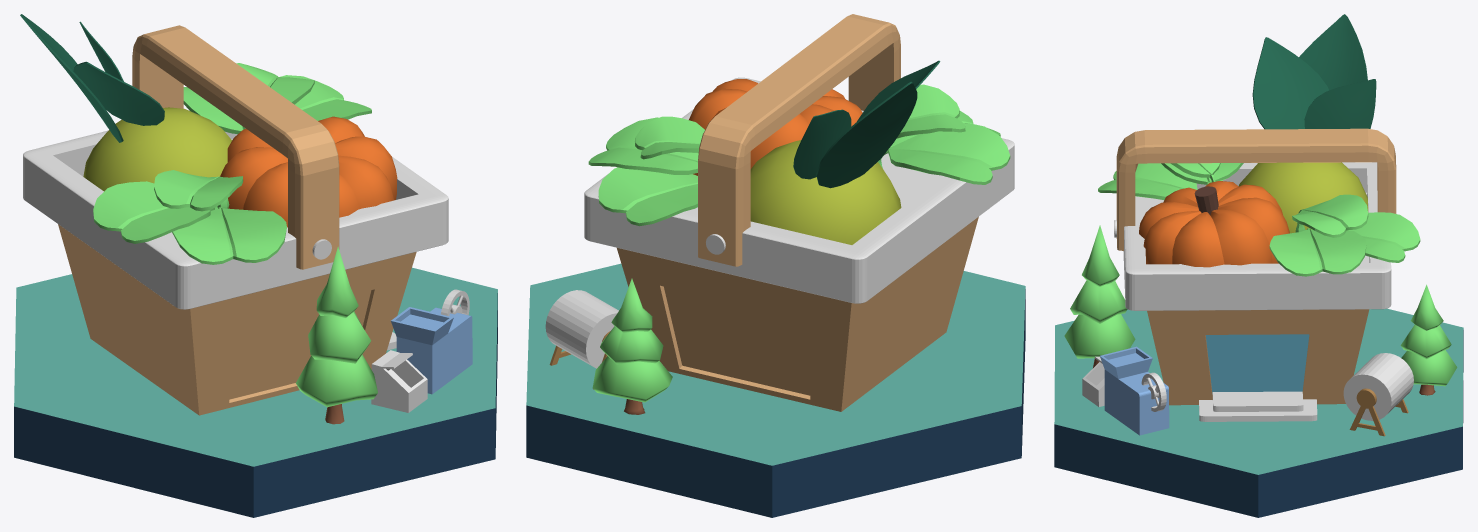
File: Macro - market lv3 wm3.fbx
3 renders of one model, left to right at view 1: azimuth 30°, elevation 25°; view 2: azimuth 150°, elevation 25°; view 3: azimuth 270°, elevation 25°, orthographic. The views are drawn at different scales.
Visible parts, largest first — view 1: Cylinder.154, Plane.006, Cube.103, Roundcube.004, Sphere.045, Sphere.044, Tree_Spruce_tiny_01.003, Plane.008, Cube.012, Plane.007, Plane.078, Plane.010 (+6 smaller); view 2: Cylinder.154, Plane.006, Cube.103, Roundcube.004, Sphere.044, Tree_Spruce_tiny_01.004, Plane.007, Plane.079, Plane.009, Cylinder.020, Sphere.045, Plane.012 (+4 smaller); view 3: Cylinder.154, Cube.103, Plane.006, Roundcube.004, Sphere.045, Plane.005, Tree_Spruce_tiny_01.003, Plane.078, Sphere.044, Cube.012, Plane.012, Tree_Spruce_tiny_01.004 (+12 smaller).
Part boxes in pixels (x1,y1,x2,y2): Cylinder.154: [14, 267, 497, 517]; Plane.006: [58, 224, 416, 415]; Cube.103: [23, 110, 448, 309]; Roundcube.004: [132, 25, 339, 269]; Sphere.045: [220, 116, 397, 227]; Sphere.044: [83, 107, 231, 191]; Tree_Spruce_tiny_01.003: [296, 246, 377, 424]; Plane.008: [172, 207, 286, 264]; Cube.012: [391, 307, 472, 394]; Plane.007: [93, 181, 217, 243]; Plane.078: [73, 61, 164, 125]; Plane.010: [154, 170, 243, 211]; Cylinder.154: [526, 263, 1025, 517]; Plane.006: [617, 217, 978, 411]; Cube.103: [584, 77, 1014, 303]; Roundcube.004: [698, 14, 900, 266]; Sphere.044: [750, 140, 901, 244]; Tree_Spruce_tiny_01.004: [592, 278, 672, 414]; Plane.007: [878, 123, 1010, 184]; Plane.079: [816, 81, 917, 188]; Plane.009: [598, 167, 697, 226]; Cylinder.020: [545, 290, 618, 368]; Sphere.045: [689, 79, 862, 175]; Plane.012: [588, 117, 698, 174]; Cylinder.154: [1054, 308, 1463, 517]; Cube.103: [1123, 162, 1391, 310]; Plane.006: [1147, 309, 1369, 405]; Roundcube.004: [1116, 128, 1396, 250]; Sphere.045: [1139, 181, 1289, 267]; Plane.005: [1205, 334, 1309, 393]; Tree_Spruce_tiny_01.003: [1064, 225, 1135, 367]; Plane.078: [1252, 37, 1328, 129]; Sphere.044: [1238, 162, 1368, 233]; Cube.012: [1100, 346, 1169, 435]; Plane.012: [1269, 228, 1366, 276]; Tree_Spruce_tiny_01.004: [1400, 284, 1457, 395].
Bounding box in the file's own units: 197 × 153 × 172.
